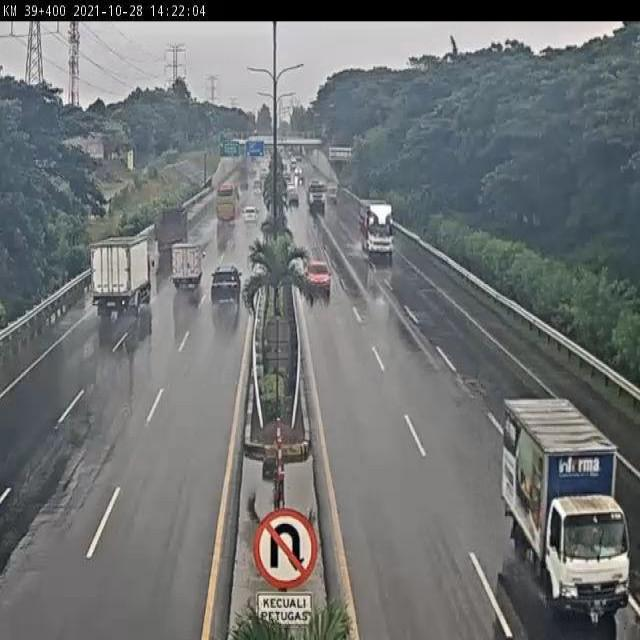big bus: (211, 185, 241, 228)
car: (210, 265, 242, 308), (302, 256, 332, 296), (240, 204, 260, 227)
truck-l-: (91, 235, 151, 312), (360, 203, 398, 261), (151, 205, 191, 258)
truck-s-: (504, 400, 631, 617), (171, 241, 206, 295)
truck-xl-: (306, 179, 327, 212)
